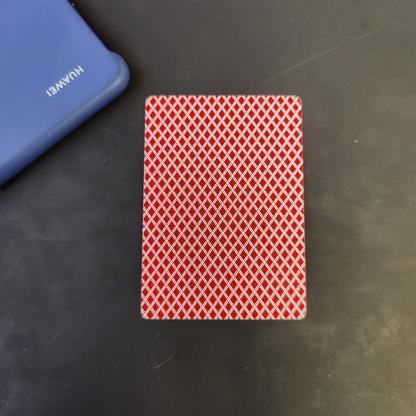card: (132, 88, 316, 327)
